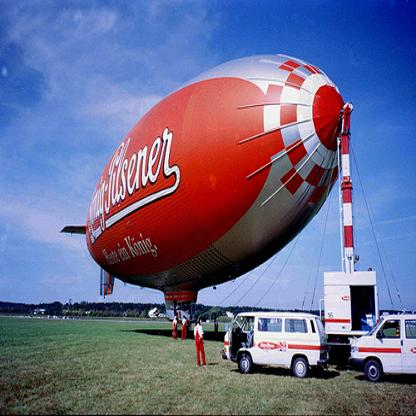Airship: (59, 49, 343, 318)
